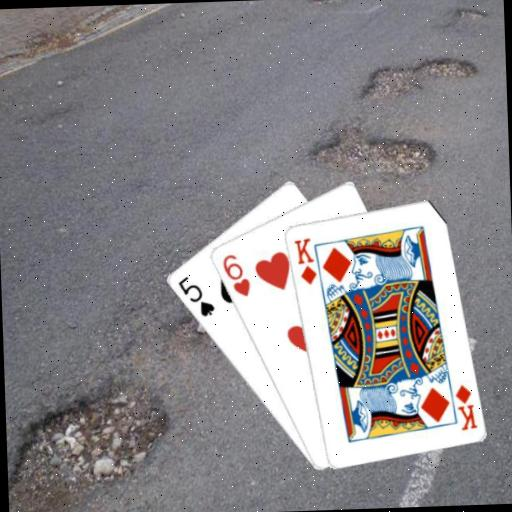5S: (174, 272, 216, 319)
6H: (218, 250, 252, 299)
KD: (290, 234, 318, 287), (451, 381, 478, 432)
